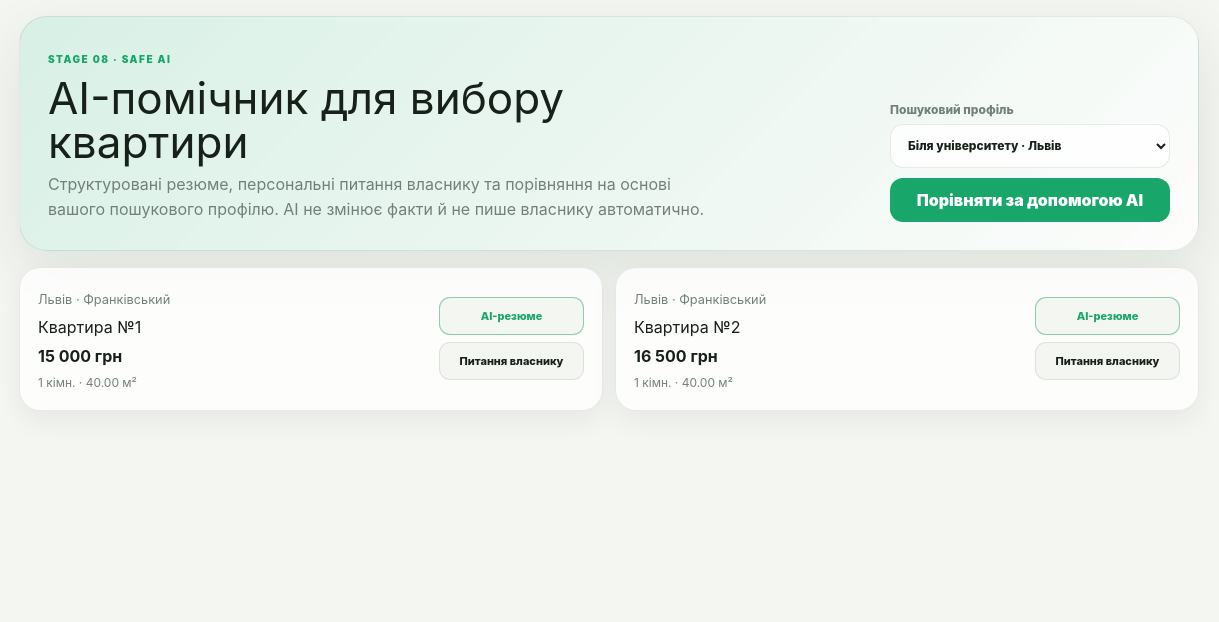
Test: AIAssistantWorkspace › runs profile-aware comparison for the selected apartments
Expected: the heading "Квартира №1" is shown, [38,317,141,337]
Click the button "Порівняти за допомогою AI": (1030, 200) [890,178,1170,222]
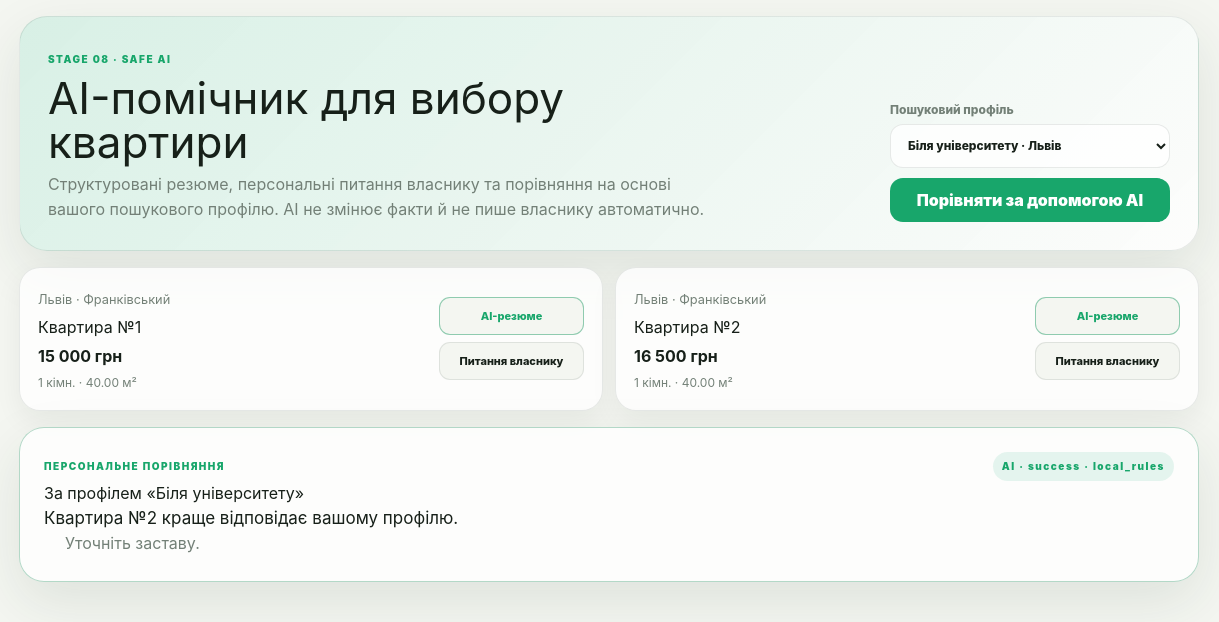
Expected: the text "Квартира №2 краще відповідає вашому профілю." is shown, [44,508,458,528]
Expected: the text "AI · success · local_rules" is shown, [993,452,1174,481]
